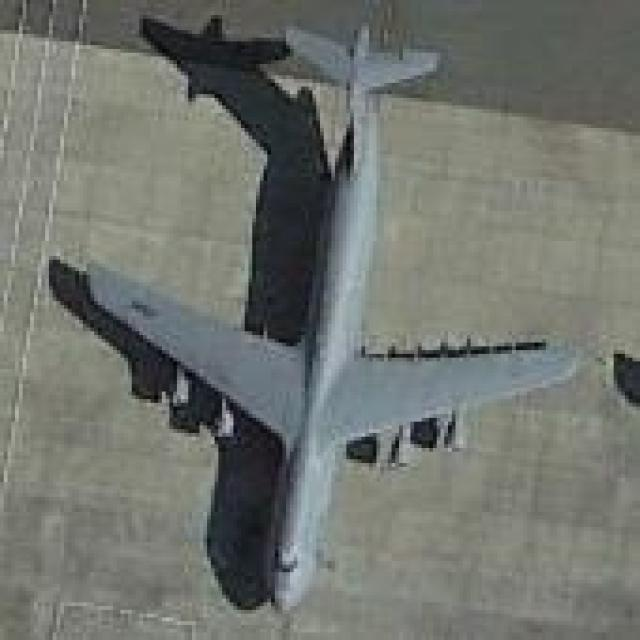C-5_TopDown: (41, 6, 584, 615)
